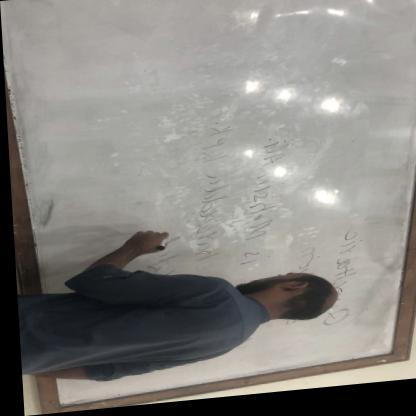Handwritten text: (165, 106, 238, 273), (230, 136, 296, 271), (311, 218, 362, 339)
Lecturer: (11, 220, 335, 389)
Whiteboard: (0, 0, 413, 414)
